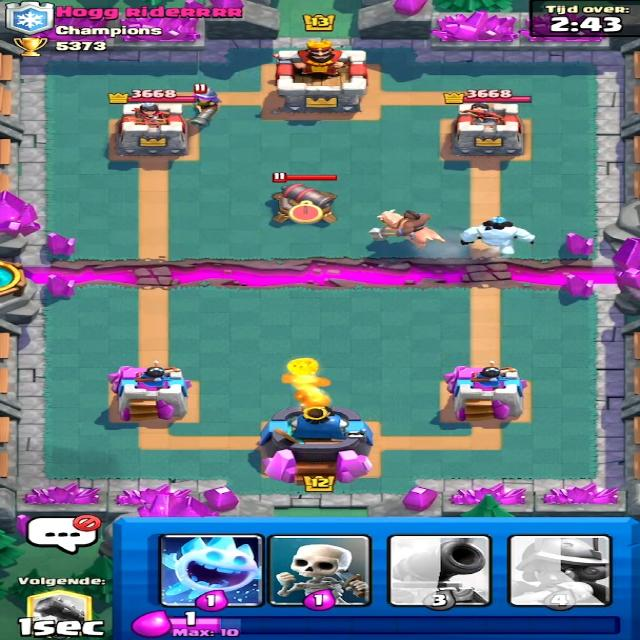Cannon_Card: (387, 535, 492, 604)
Enemy_Musketeer_Troop: (184, 85, 223, 126)
Fireball_Troop: (284, 354, 330, 394)
Hog_Rider_Troop: (356, 204, 452, 249)
Ice_Golem_Troop: (451, 214, 542, 257)
Ice_Spirit_Card: (161, 534, 262, 612)
Musketeer_Card: (509, 534, 612, 606)
Skeleton_Card: (272, 532, 368, 610)
